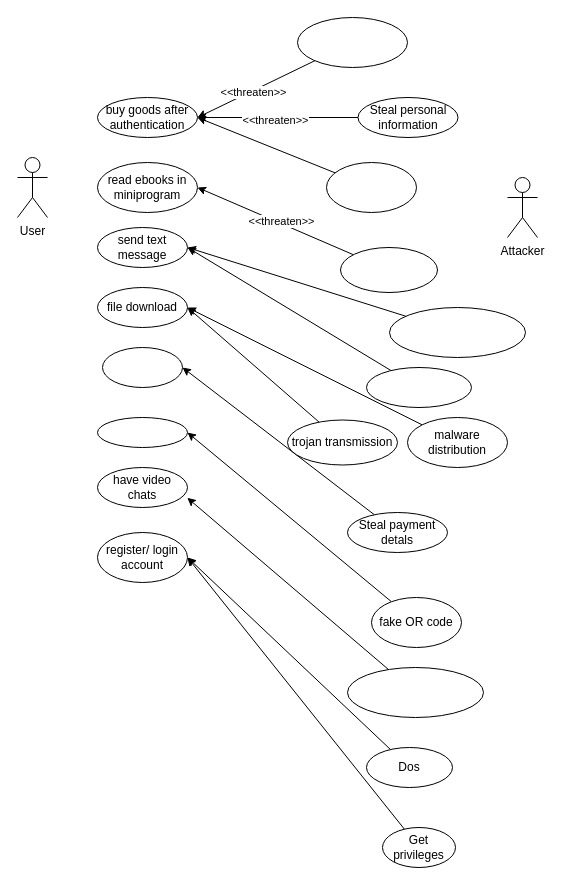
Some shapes in this 562 by 885 pixel diagram are drawn without their labels. Here are the shapes that lost their labels. From the top down, the centre of each, then its label:
At [352,42]: "abuse the backend API interface".
At [371,187]: "fake applets".
At [389,269]: "embed cross-site scripting attacks".
At [457,332]: "send aperently legitimate (malicious) links".
At [142,367]: "payment".
At [419,387]: "SMS bombing".
At [142,432]: "scan QR code".
At [415,692]: "AI-based Face Swapping for Fraud".
